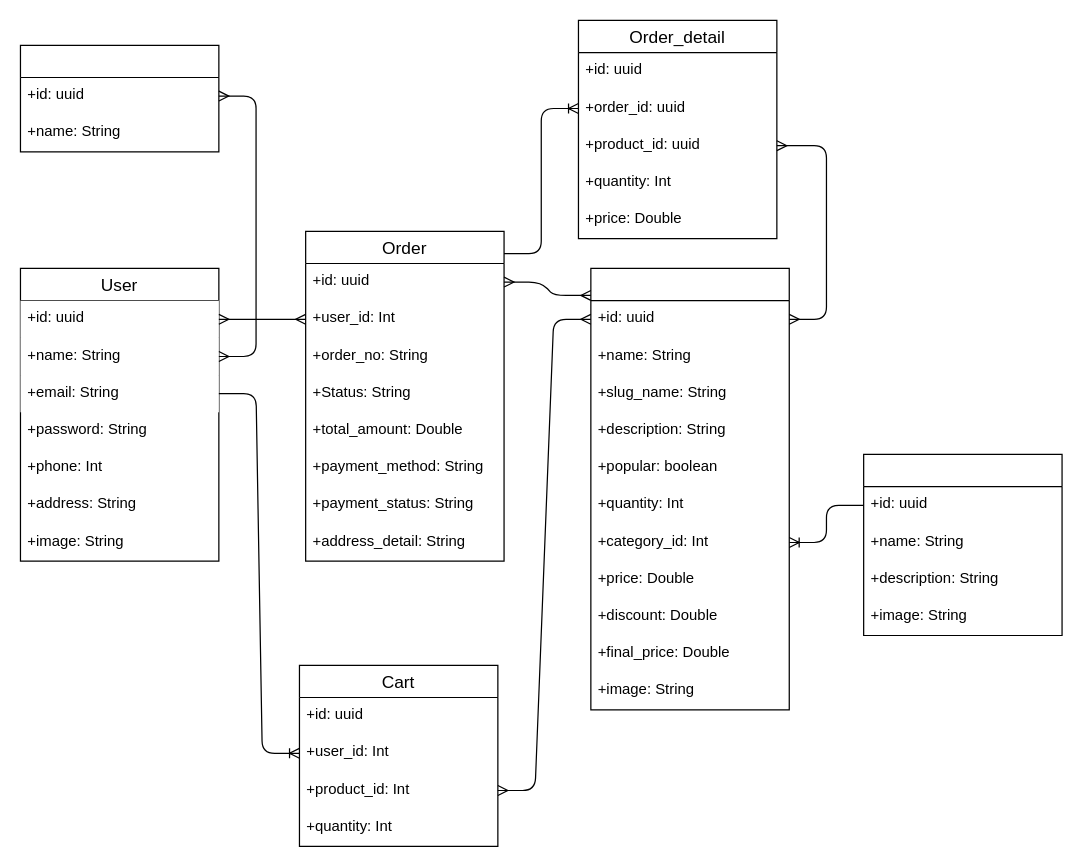
This 1083x867 diagram has some shape labels left out. The box of each missing label's shape, as (x1, y1, x2, y2) in pixels:
Category: (862, 453, 1062, 636)
Product: (590, 267, 789, 710)
Role: (19, 44, 219, 152)
